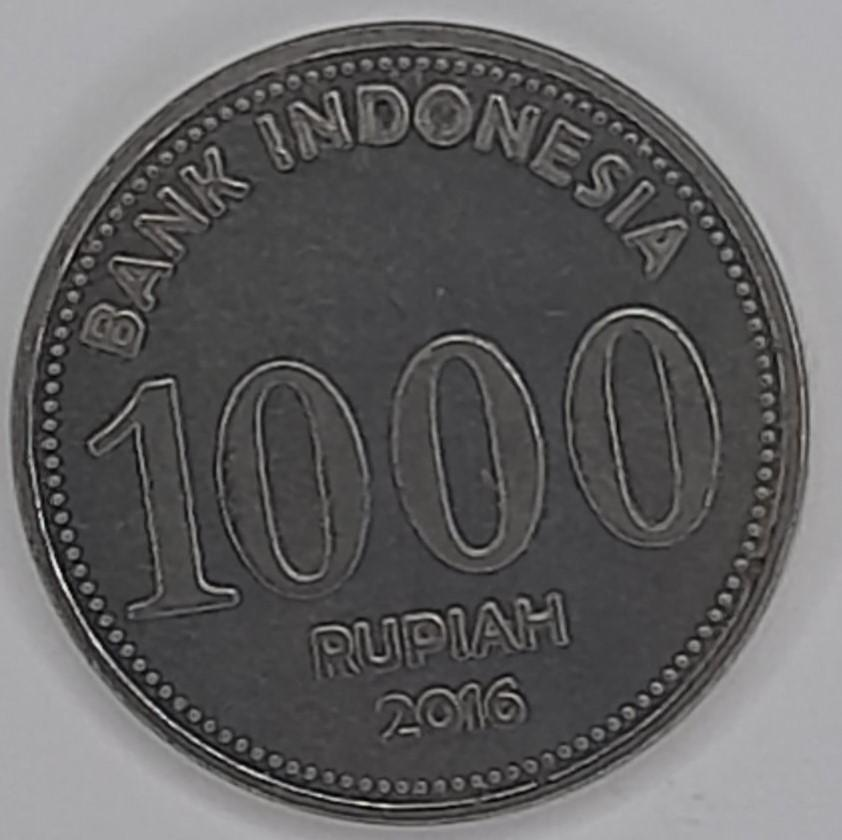coin_1000_e2016: (14, 17, 831, 840)
